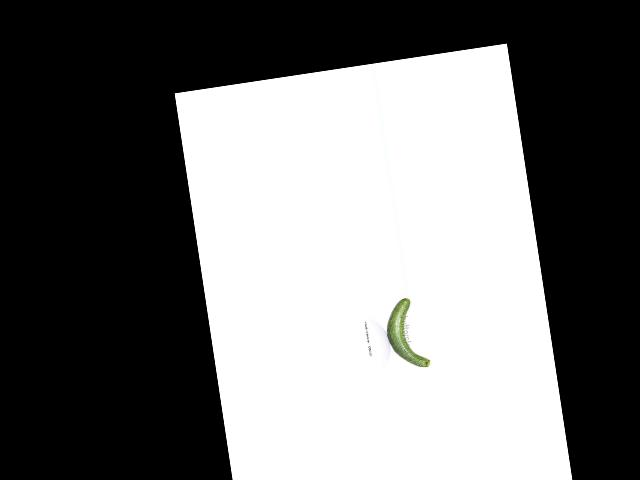cucumber: (382, 296, 431, 372)
